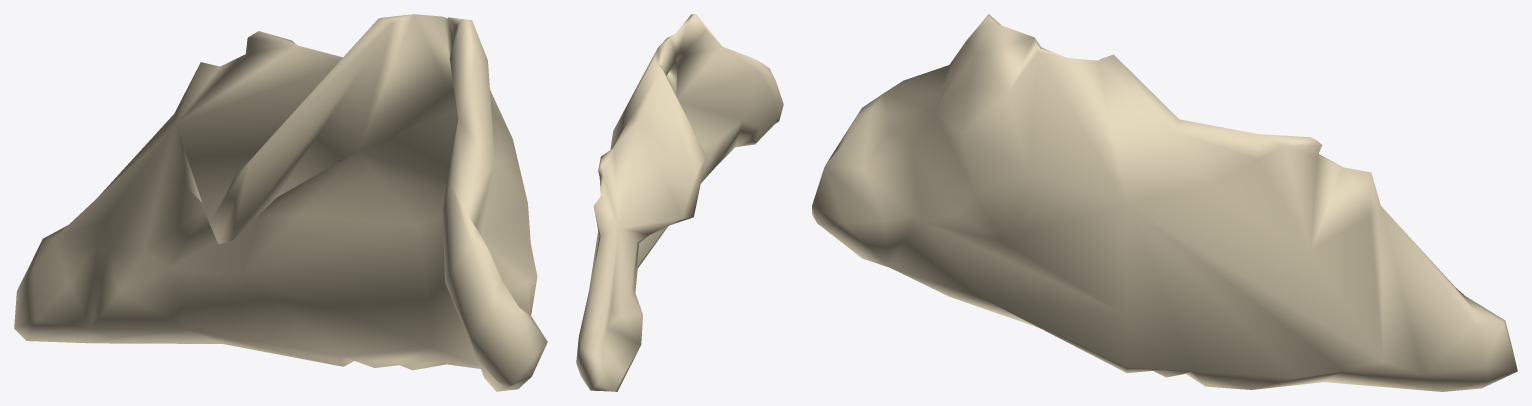
Rendered from esqueleto-inferior-nasal-concha-bone-r.glb.
3 views of the same model, side by side, from view 1: azimuth 30°, elevation 25°; view 2: azimuth 150°, elevation 25°; view 3: azimuth 270°, elevation 25° (orthographic). The views are drawn at different scales.
Visible parts, largest first — view 1: Inferior nasal concha bone.r; view 2: Inferior nasal concha bone.r; view 3: Inferior nasal concha bone.r.
Boxes of the visible parts, x1,y1,x2,y2 form: Inferior nasal concha bone.r: (14, 14, 547, 391); Inferior nasal concha bone.r: (576, 14, 783, 391); Inferior nasal concha bone.r: (812, 14, 1517, 391).
Size of the model in its own units: 0.0105 by 0.0225 by 0.0346.
